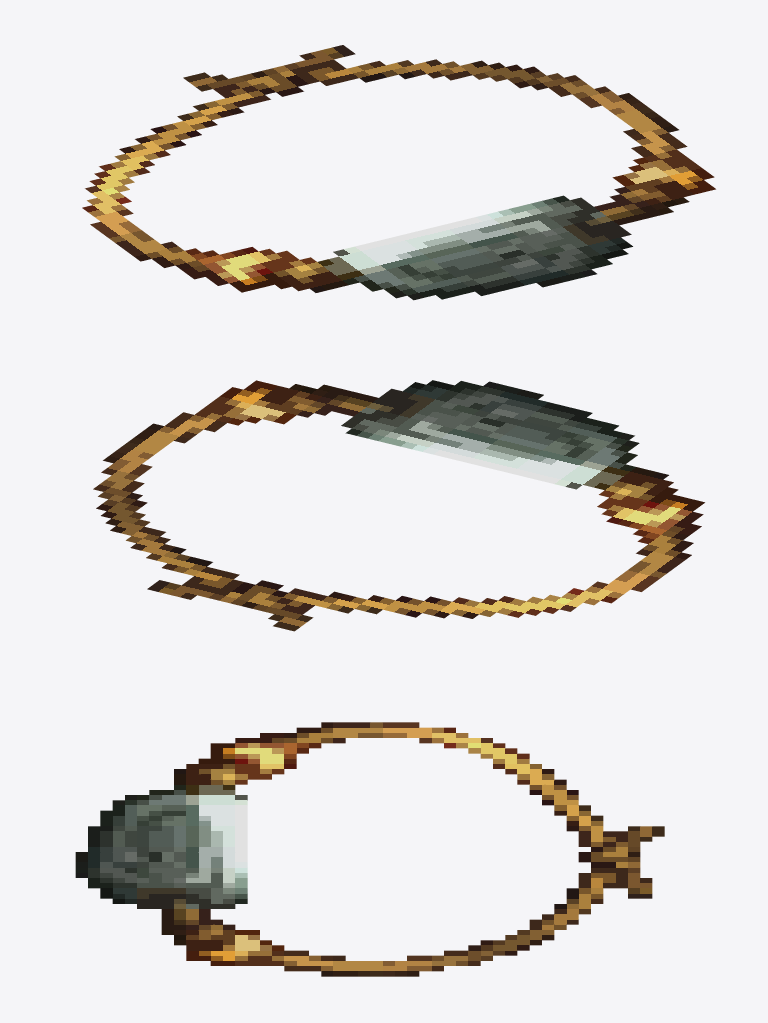
File: necklace_d598e6e8.glb
3 views of the same model, one above another, from view 1: azimuth 30°, elevation 25°; view 2: azimuth 150°, elevation 25°; view 3: azimuth 270°, elevation 25° (orthographic). The views are drawn at different scales.
Size of the model in its own units: 0.4947 by 0 by 0.4947.
1 material, 1 textured.
